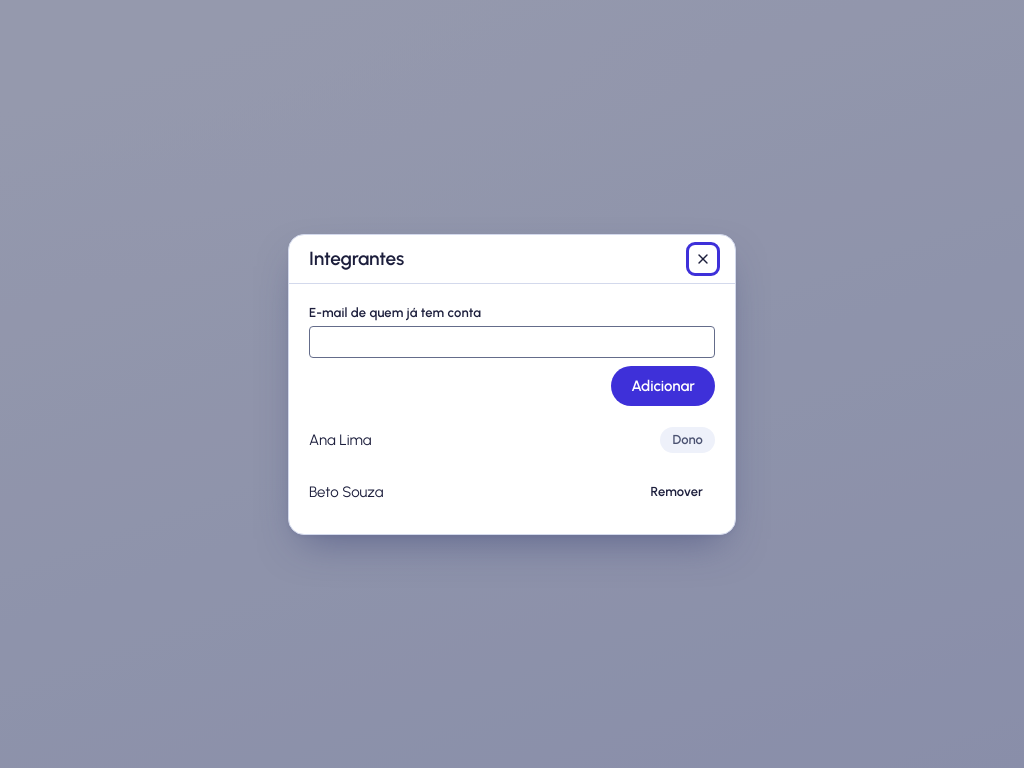
Test: IntegrantesModal › erro de uma ação some quando a outra começa
The width and height of the screenshot is (1024, 768).
Type "z@x.com" into the field labelled "E-mail de quem já tem conta".
click(512, 342); type("z@x.com")  # box [309,326,715,358]
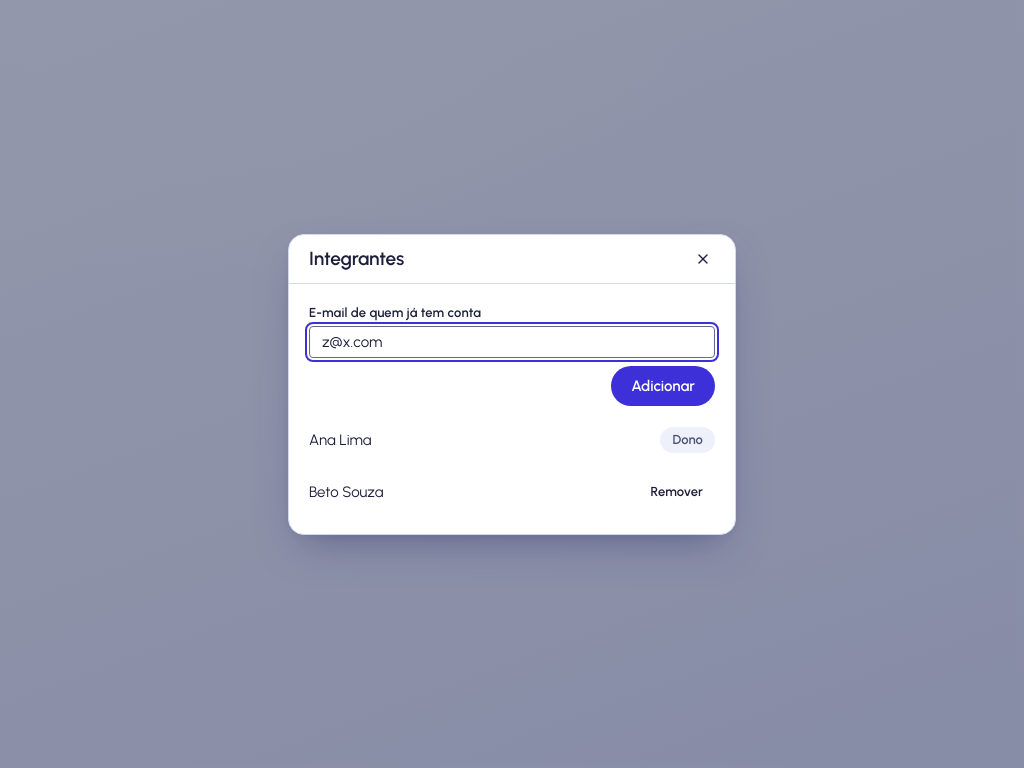
Click the button "Adicionar".
click(663, 386)  # box [611,366,715,406]
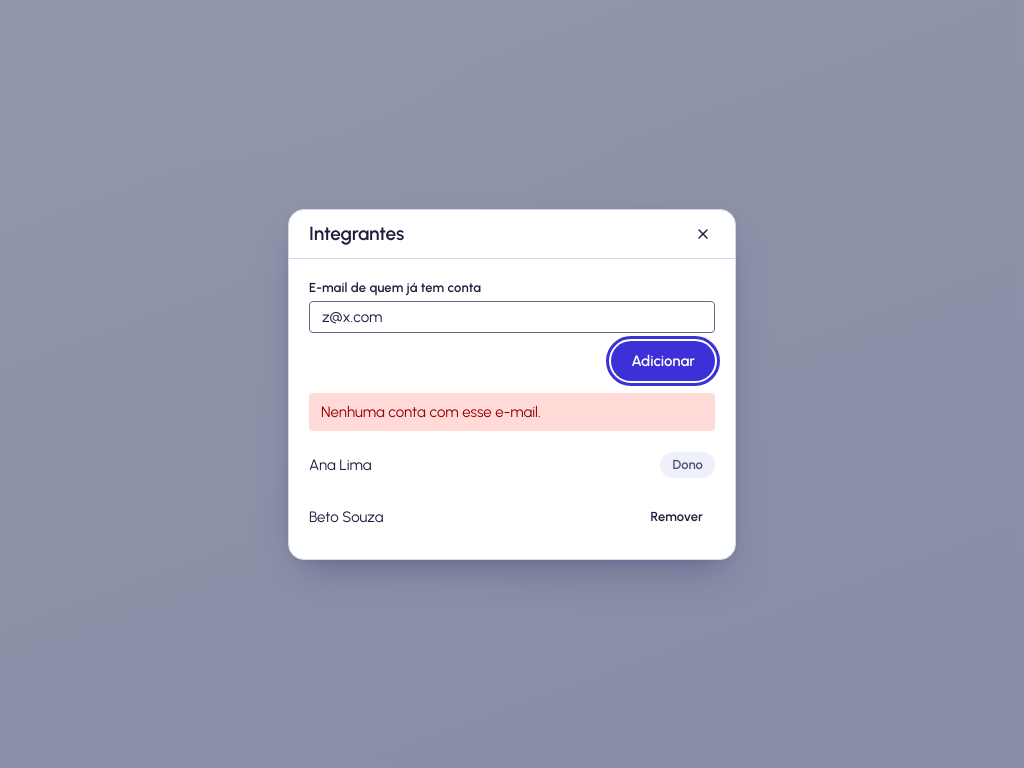
Check: the message "Nenhuma conta com esse e-mail." is shown, box [309,392,715,430]
Click the button with aria-label "Remover Beto Souza".
click(677, 516)  # box [639,500,715,532]
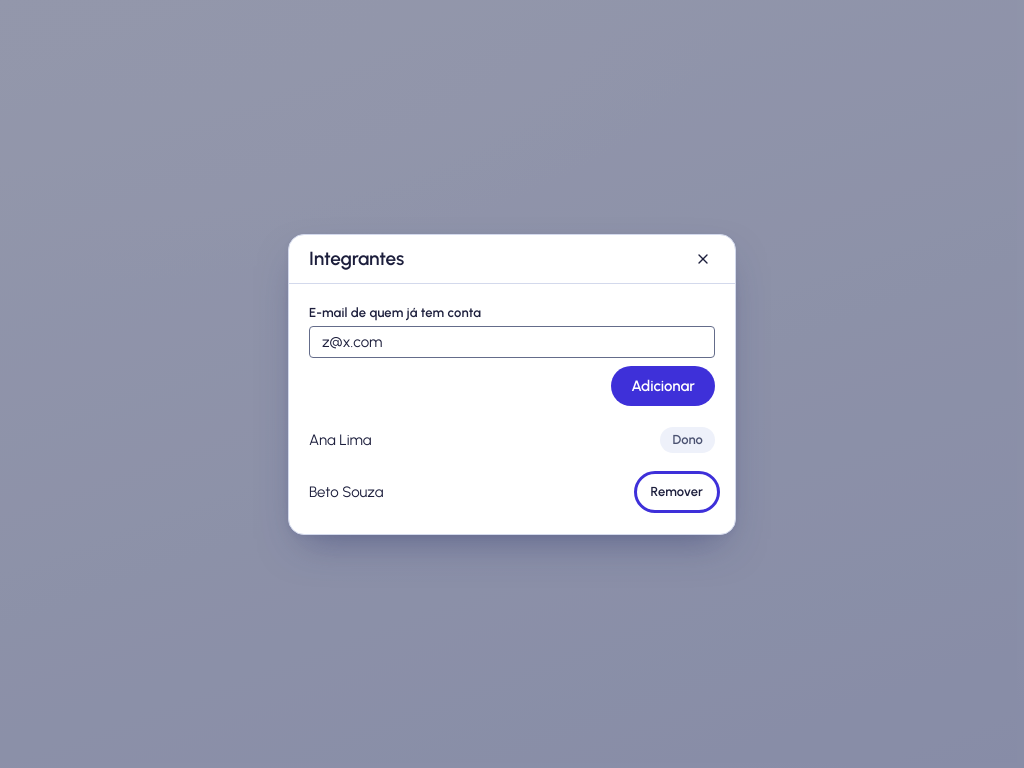
Check: the message "Nenhuma conta com esse e-mail." is gone
